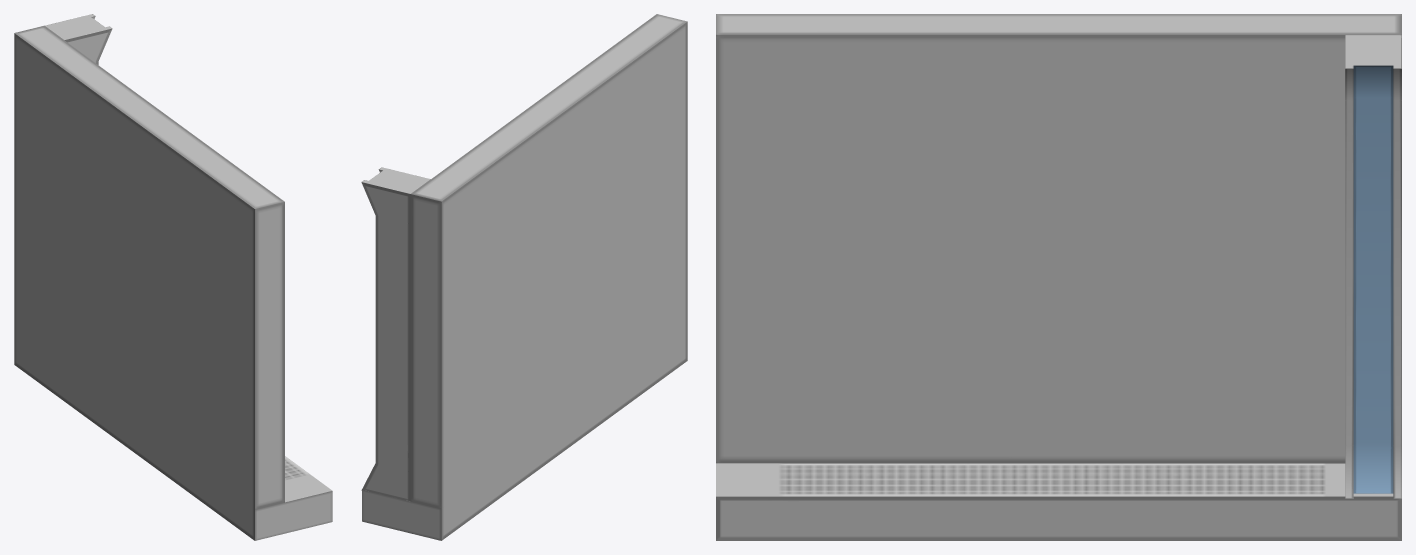
Rendered from Stage_Wall_Right.fbx.
3 views of the same model, side by side, from view 1: azimuth 30°, elevation 25°; view 2: azimuth 150°, elevation 25°; view 3: azimuth 270°, elevation 25° (orthographic). The views are drawn at different scales.
Visible parts, largest first — view 1: pPlane9; view 2: pPlane9; view 3: pPlane9.
Part boxes in pixels (x1,y1,x2,y2): pPlane9: (14, 14, 332, 540); pPlane9: (361, 14, 687, 540); pPlane9: (716, 14, 1401, 540).
Bounding box in the file's own units: 4.38 × 17.71 × 23.28.
